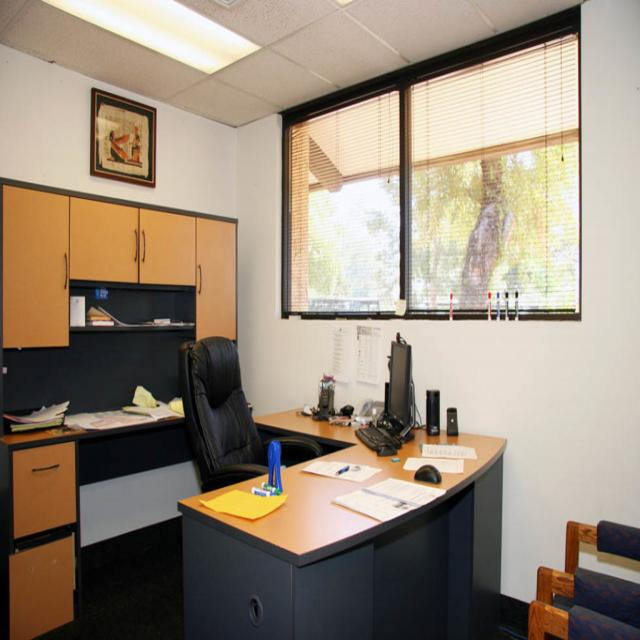chair: (180, 336, 320, 492)
desk: (177, 400, 506, 639)
keyboard: (354, 422, 400, 455)
mouse: (414, 464, 442, 484)
tv: (387, 340, 412, 428)
